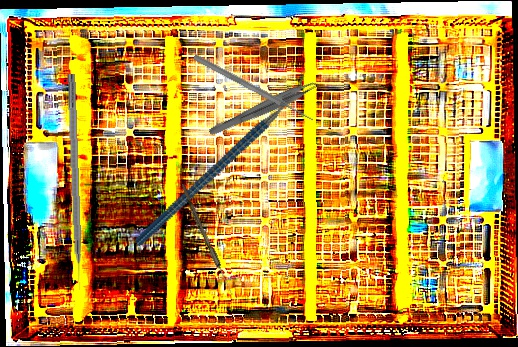Chopper: (99, 69, 342, 247)
Hook Surgical: (65, 73, 83, 291)
Pusher: (191, 52, 316, 125)
Surgical Spoon: (178, 183, 236, 297)
Tissue Forceps: (207, 75, 323, 143)
